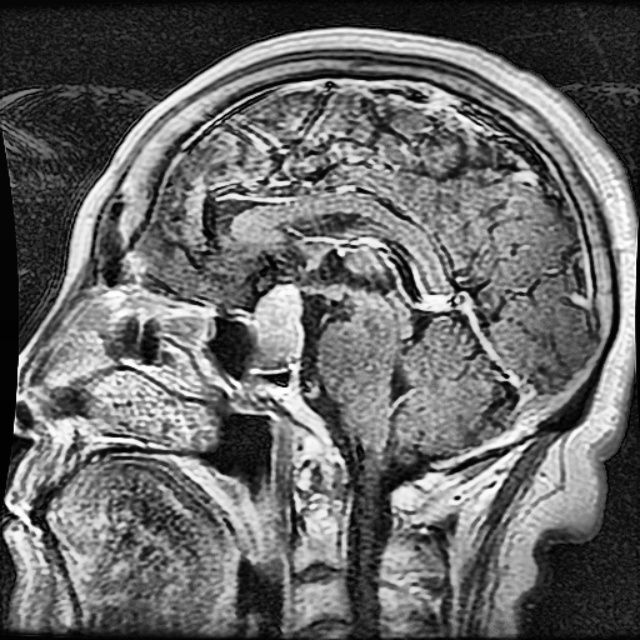Pituitary: (254, 280, 303, 360)
